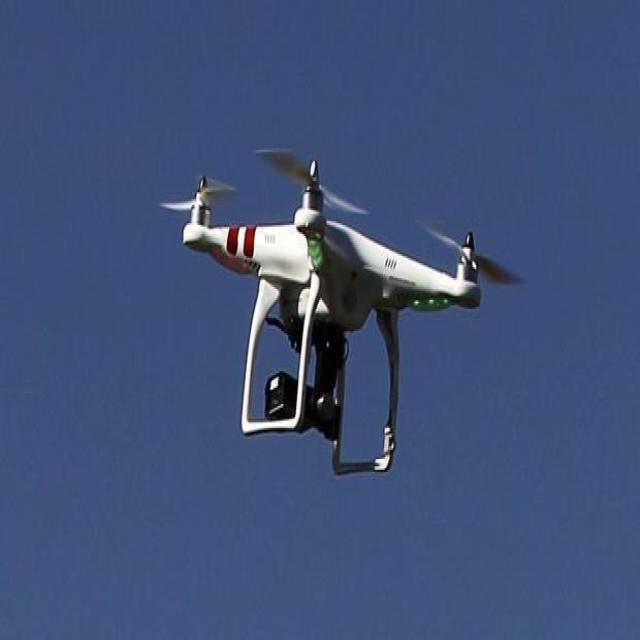UAV: (179, 155, 487, 481)
